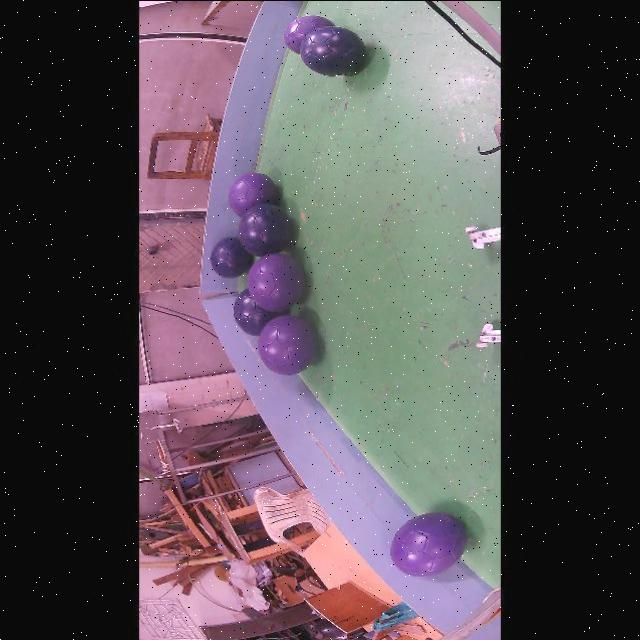B: (300, 24, 366, 75), (239, 203, 292, 256), (234, 287, 282, 335), (211, 236, 251, 277)
P: (391, 511, 468, 575), (259, 315, 318, 374), (248, 252, 305, 311), (229, 172, 278, 216), (284, 14, 334, 53)
